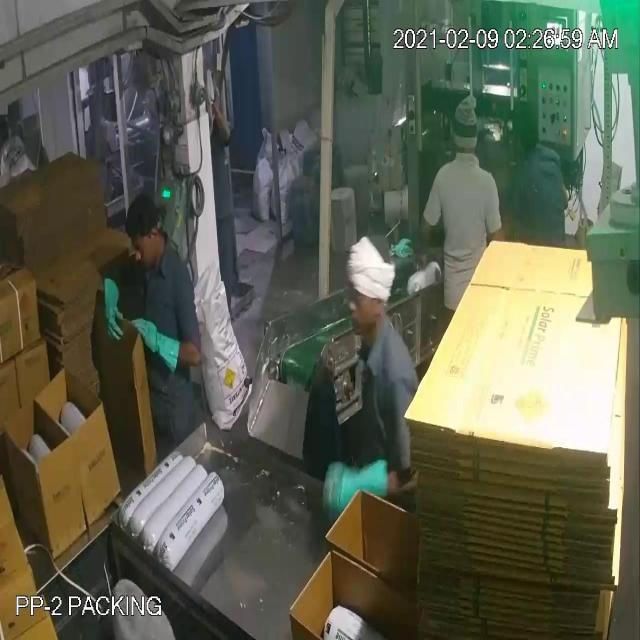Gloves: (29, 68, 359, 490)
